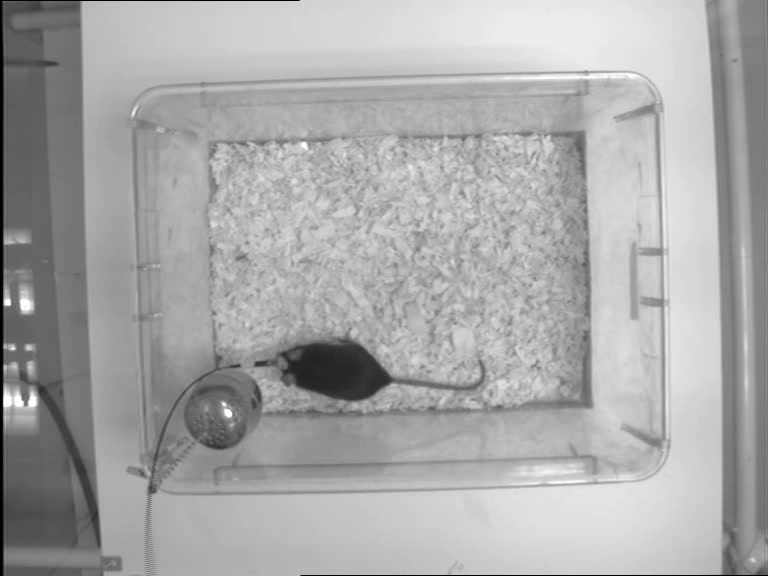mice: (275, 337, 488, 402)
